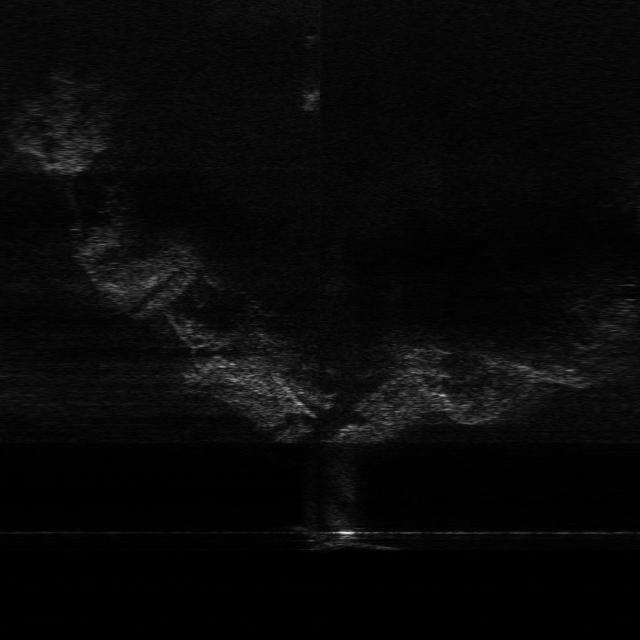plane: (290, 524, 406, 552)
